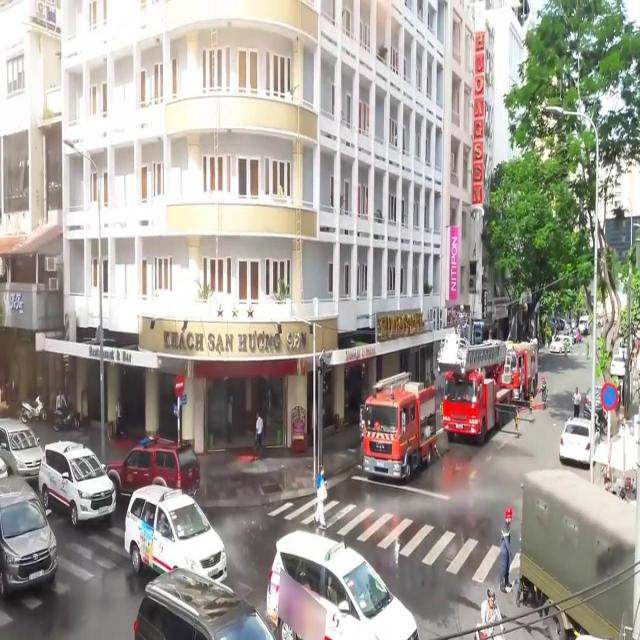car: (266, 530, 420, 640), (134, 567, 276, 640), (124, 483, 227, 581), (0, 474, 58, 596), (37, 439, 115, 527), (106, 433, 200, 494), (0, 417, 43, 479), (560, 415, 590, 467)
truck: (519, 468, 640, 640), (358, 371, 436, 481), (437, 334, 511, 444)
